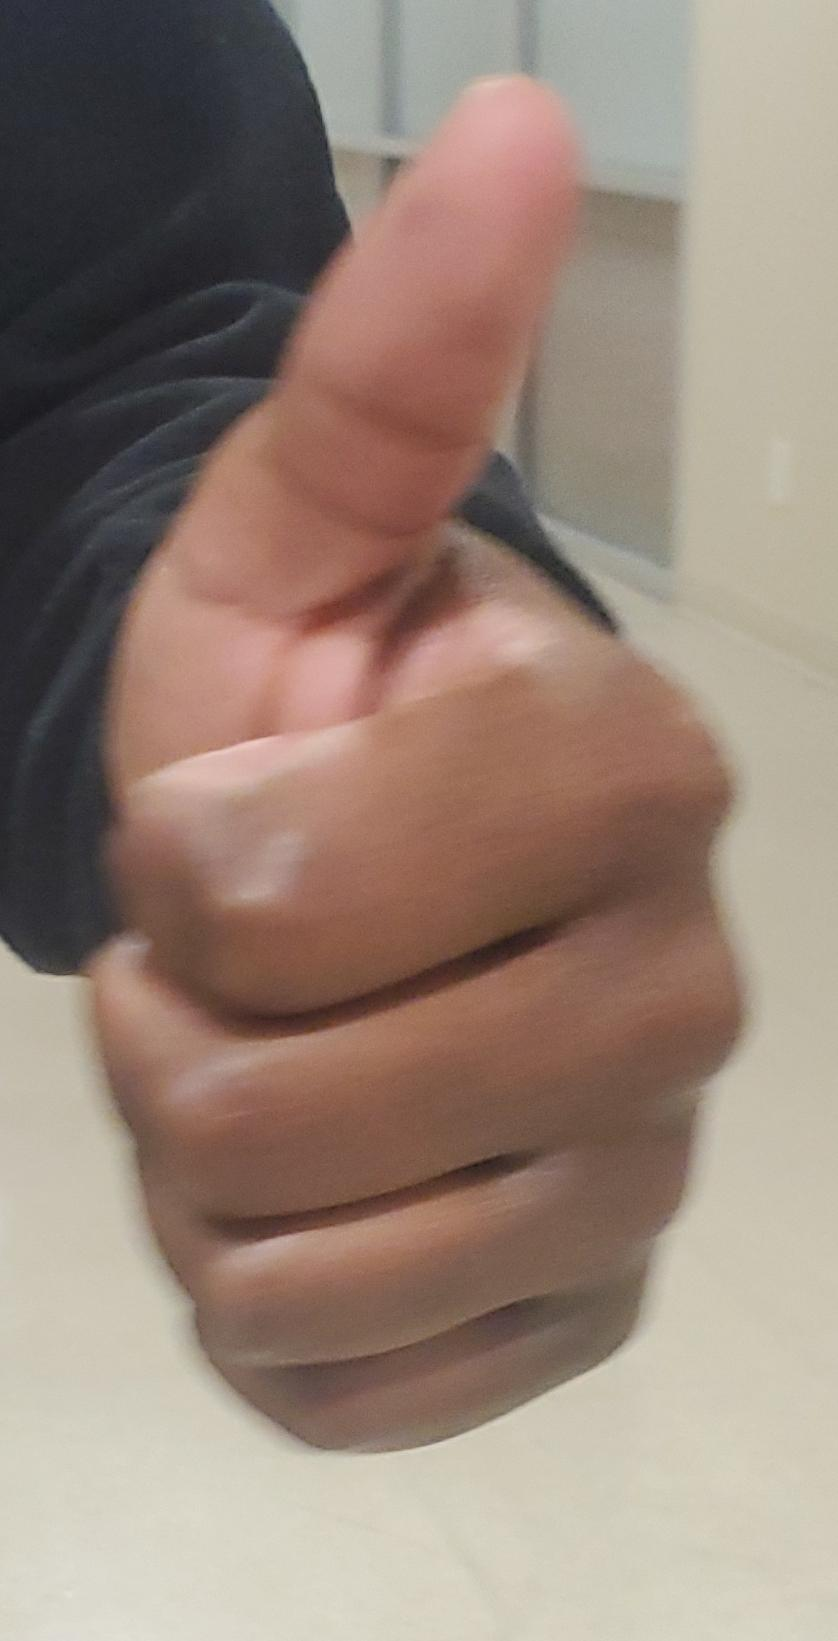up: (0, 1, 838, 1641)
